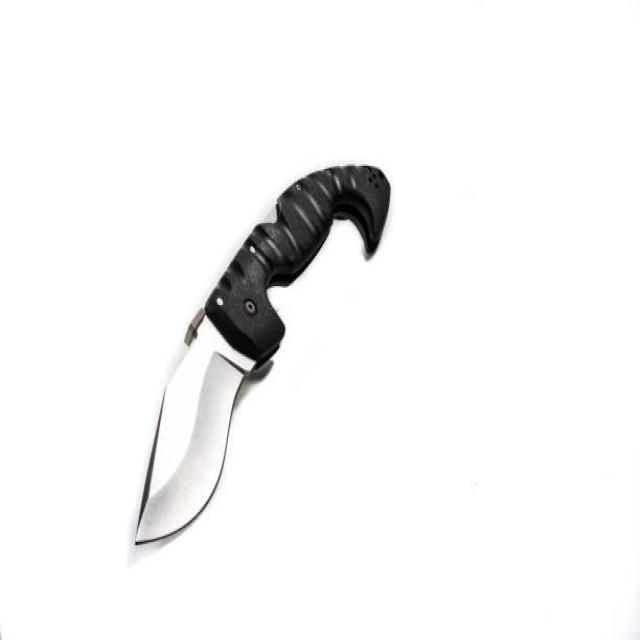knife: (121, 157, 398, 551)
